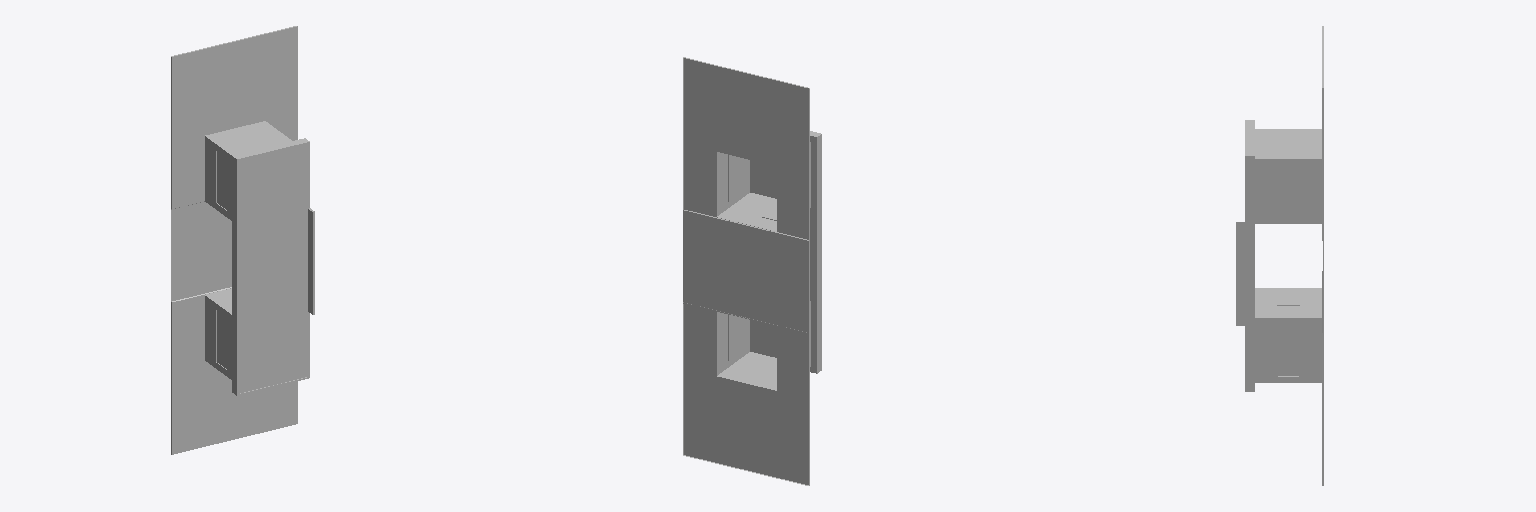
Rendered from igs_gate_1.obj.
3 views of the same model, side by side, from view 1: azimuth 30°, elevation 25°; view 2: azimuth 150°, elevation 25°; view 3: azimuth 270°, elevation 25° (orthographic).
Bounding box in the file's own units: 1 × 3 × 0.6028.